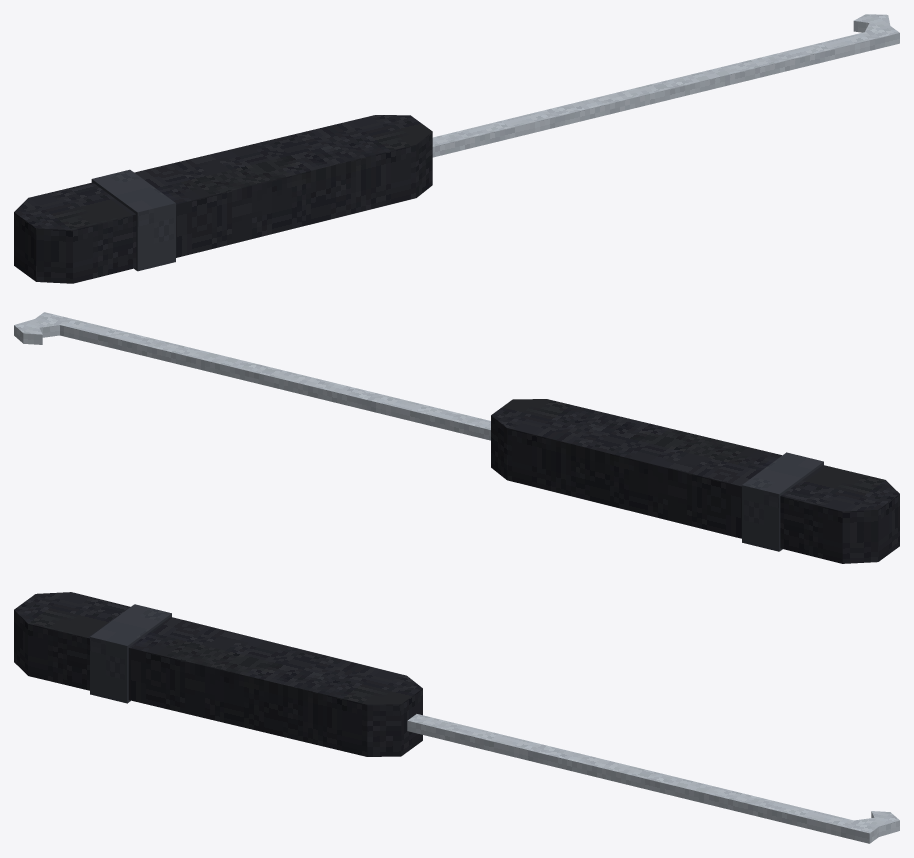
3 renders of one model, top to bottom at view 1: azimuth 30°, elevation 25°; view 2: azimuth 150°, elevation 25°; view 3: azimuth 330°, elevation 25°, orthographic. The views are drawn at different scales.
Visible parts, largest first — view 1: Lockpick; view 2: Lockpick; view 3: Lockpick.
Part boxes in pixels (x1,y1,x2,y2): Lockpick: [14, 14, 899, 283]; Lockpick: [14, 312, 899, 563]; Lockpick: [14, 592, 899, 843].
Size of the model in its own units: 0.1375 by 0.0088 by 0.0124.
Materials: 3 (3 with a texture image).
